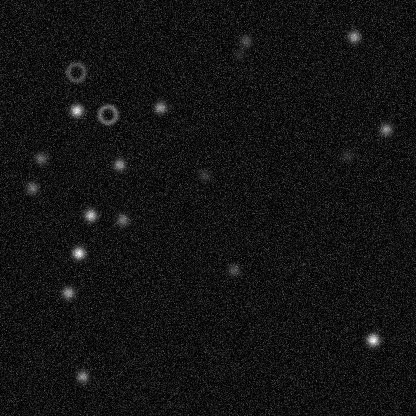Ring: (63, 60, 87, 84), (95, 102, 119, 126)
Spot: (111, 156, 127, 172), (225, 261, 241, 277), (152, 99, 168, 115), (82, 207, 98, 223), (339, 147, 355, 163), (24, 180, 40, 196), (70, 244, 86, 260), (196, 167, 212, 183), (60, 284, 76, 300), (68, 102, 84, 118), (32, 150, 48, 166), (237, 33, 253, 49), (231, 46, 247, 62), (114, 211, 130, 227), (364, 331, 380, 347), (377, 121, 393, 137), (345, 28, 361, 44), (74, 368, 90, 384)
